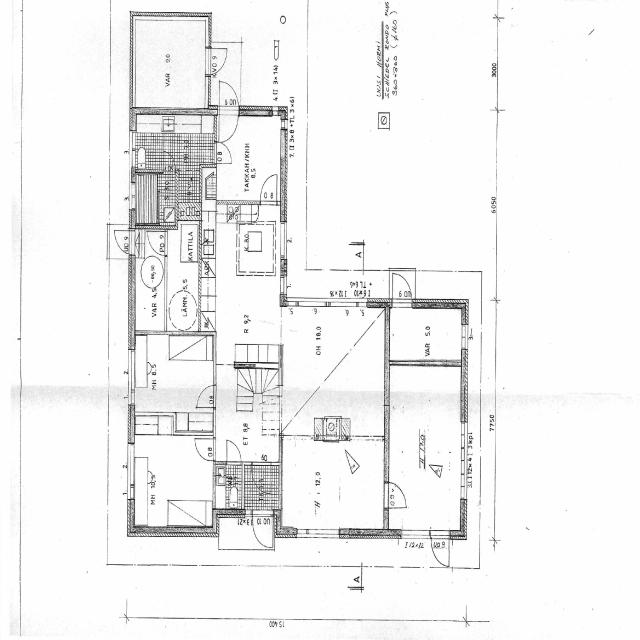door: (252, 510, 274, 548), (219, 106, 239, 144), (219, 79, 239, 116), (392, 270, 412, 306), (205, 48, 230, 75), (431, 530, 449, 564), (384, 482, 406, 508), (252, 462, 270, 492), (112, 231, 135, 254), (147, 231, 167, 256), (197, 438, 216, 461), (260, 178, 276, 204), (197, 385, 215, 408), (214, 141, 232, 163), (227, 442, 241, 465), (163, 153, 175, 173)
